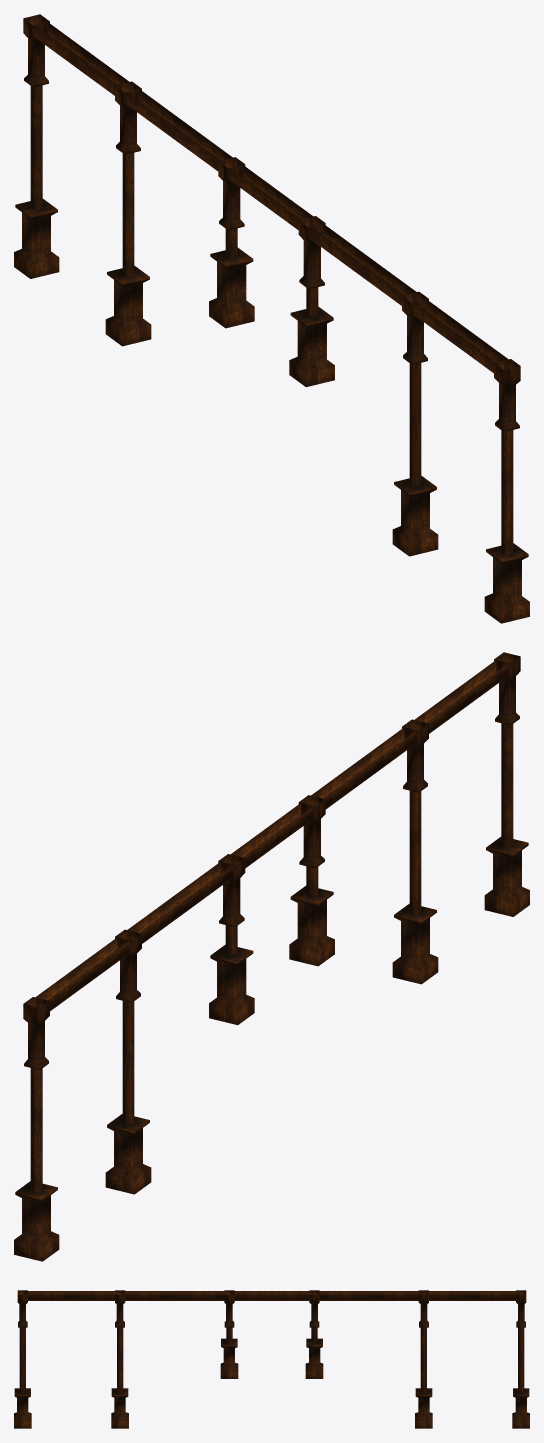
The model's file is stair_archway.DAE.
3 views of the same model, one above another, from view 1: azimuth 30°, elevation 25°; view 2: azimuth 150°, elevation 25°; view 3: azimuth 270°, elevation 25° (orthographic). The views are drawn at different scales.
Visible parts, largest first — view 1: Box004; view 2: Box004; view 3: Box004.
Boxes of the visible parts, <box> form: Box004: <box>14,14,529,623</box>; Box004: <box>14,652,529,1261</box>; Box004: <box>14,1290,529,1428</box>.
Bounding box in the file's own units: 0.7281 × 21.22 × 6.
